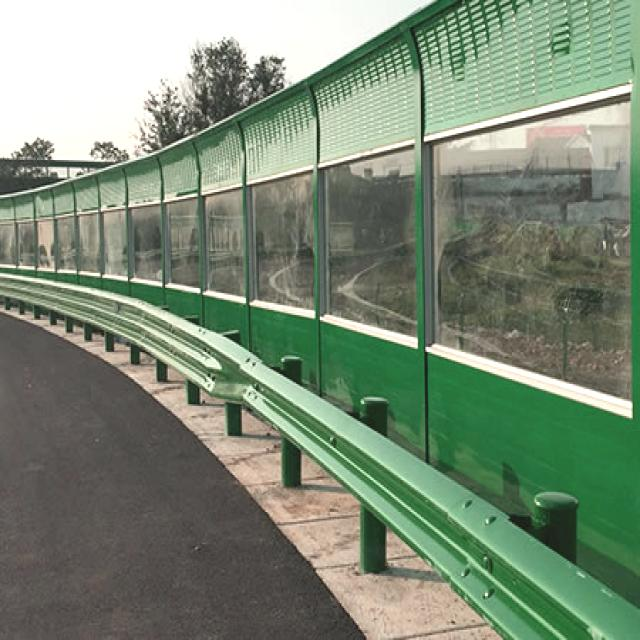Guard rail: (0, 273, 640, 639)
